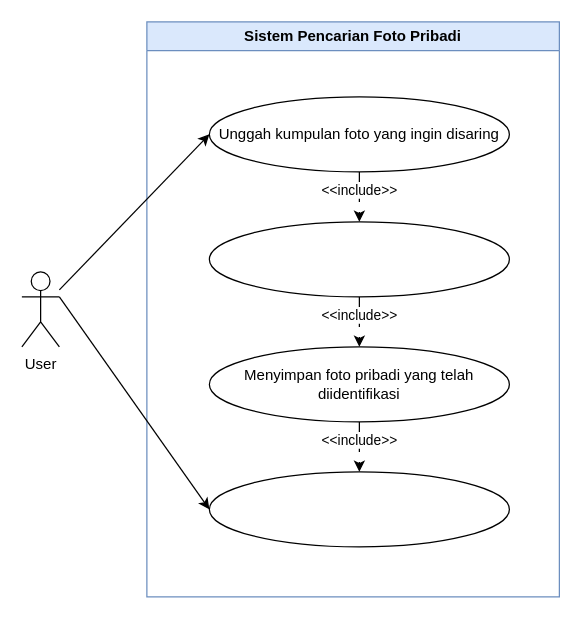
Some shapes in this 581 by 619 pixel diagram are drawn without their labels. Here are the shapes that lost their labels. From the top down, the centre of each, then its label:
At (358,259): "Identifikasi foto pribadi dari kumpulan foto".
At (358,509): "Menampilkan hasil penyaringan foto".
